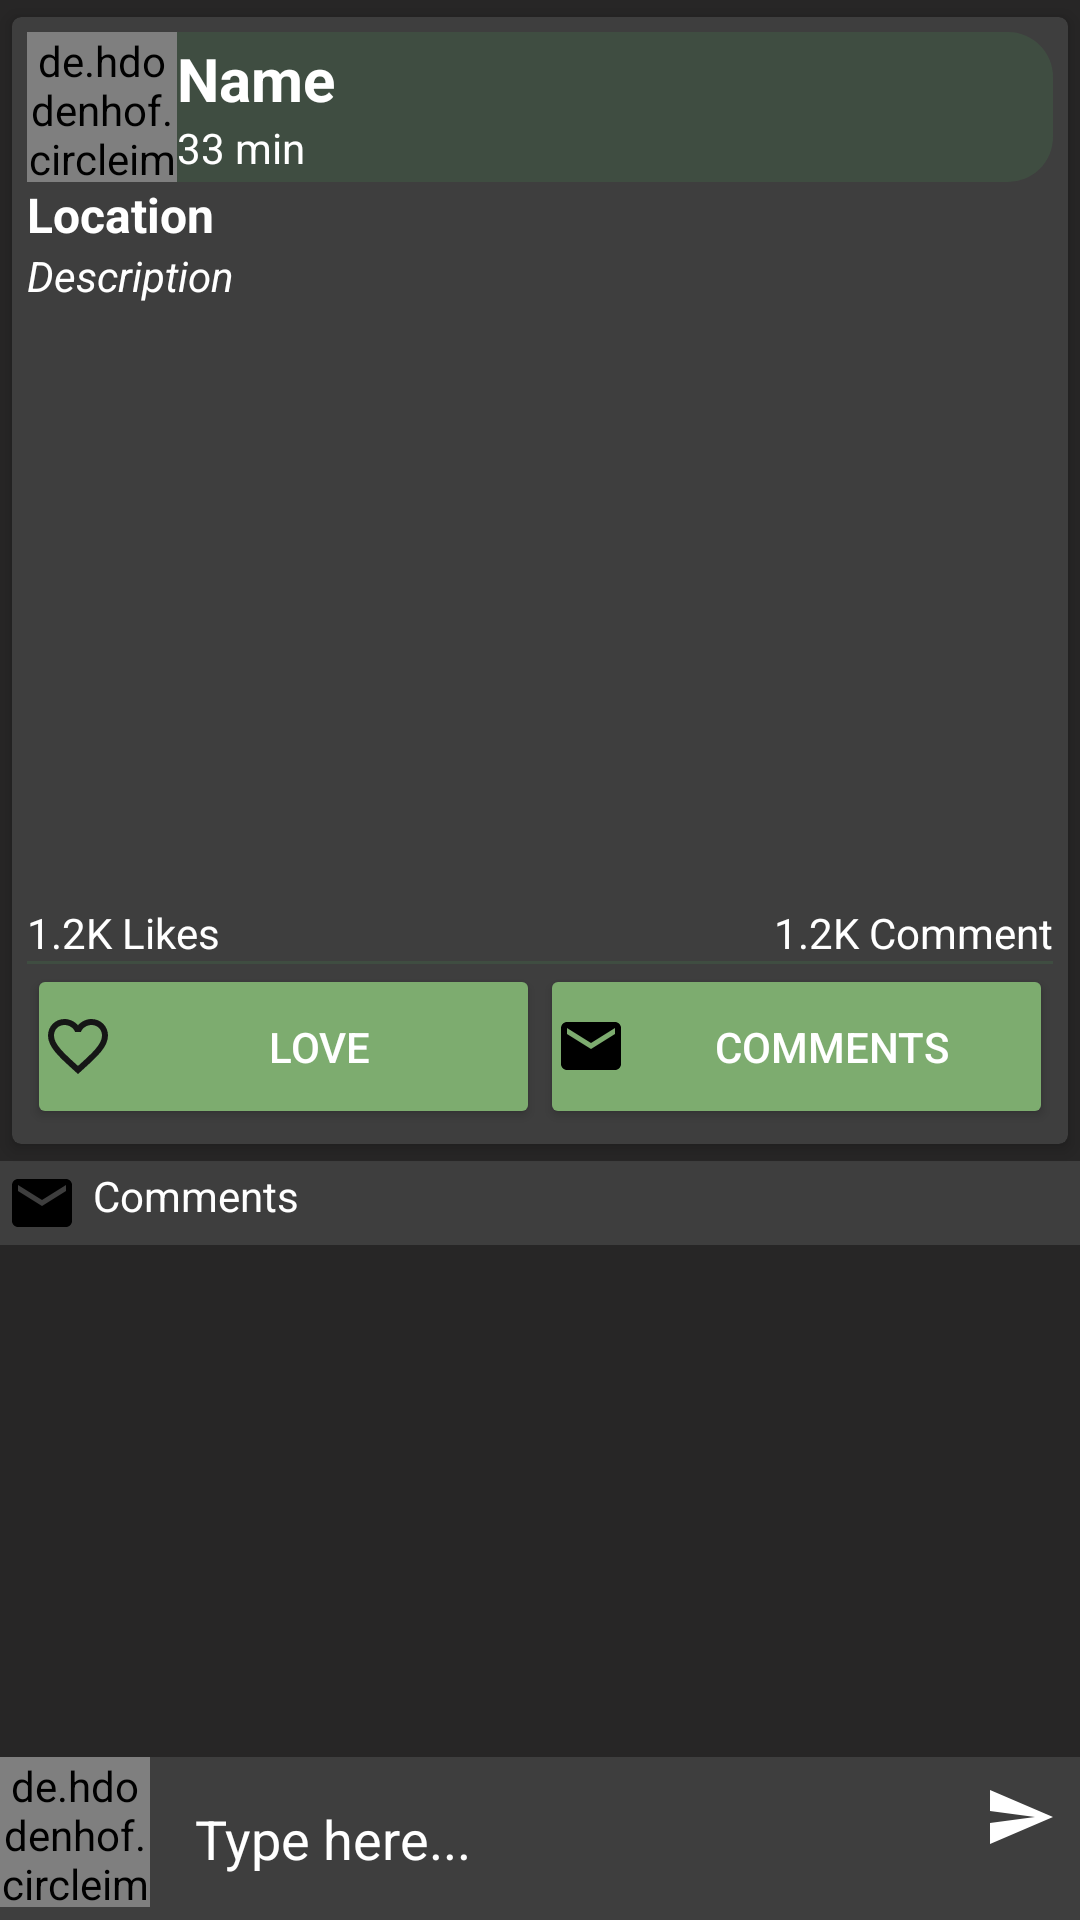

Icons on this 1080w x 1920h Android screen, each with the point to tap as (x,y):
send message: (1021,1817)
